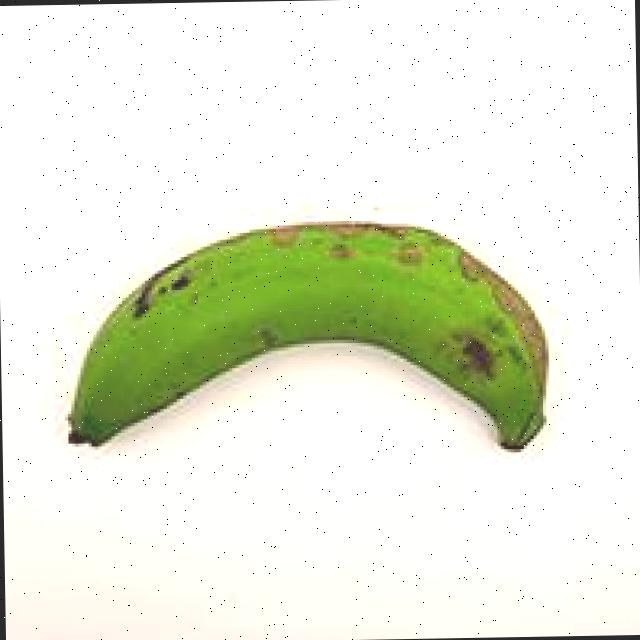Raw: (42, 168, 584, 518)
